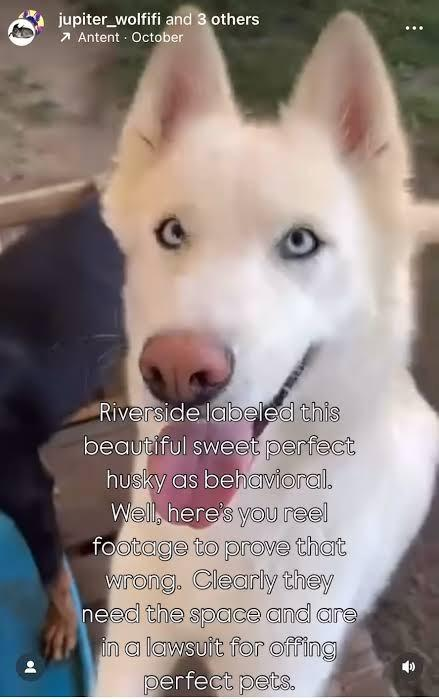adult_dog: (83, 6, 439, 699), (1, 189, 127, 665)
